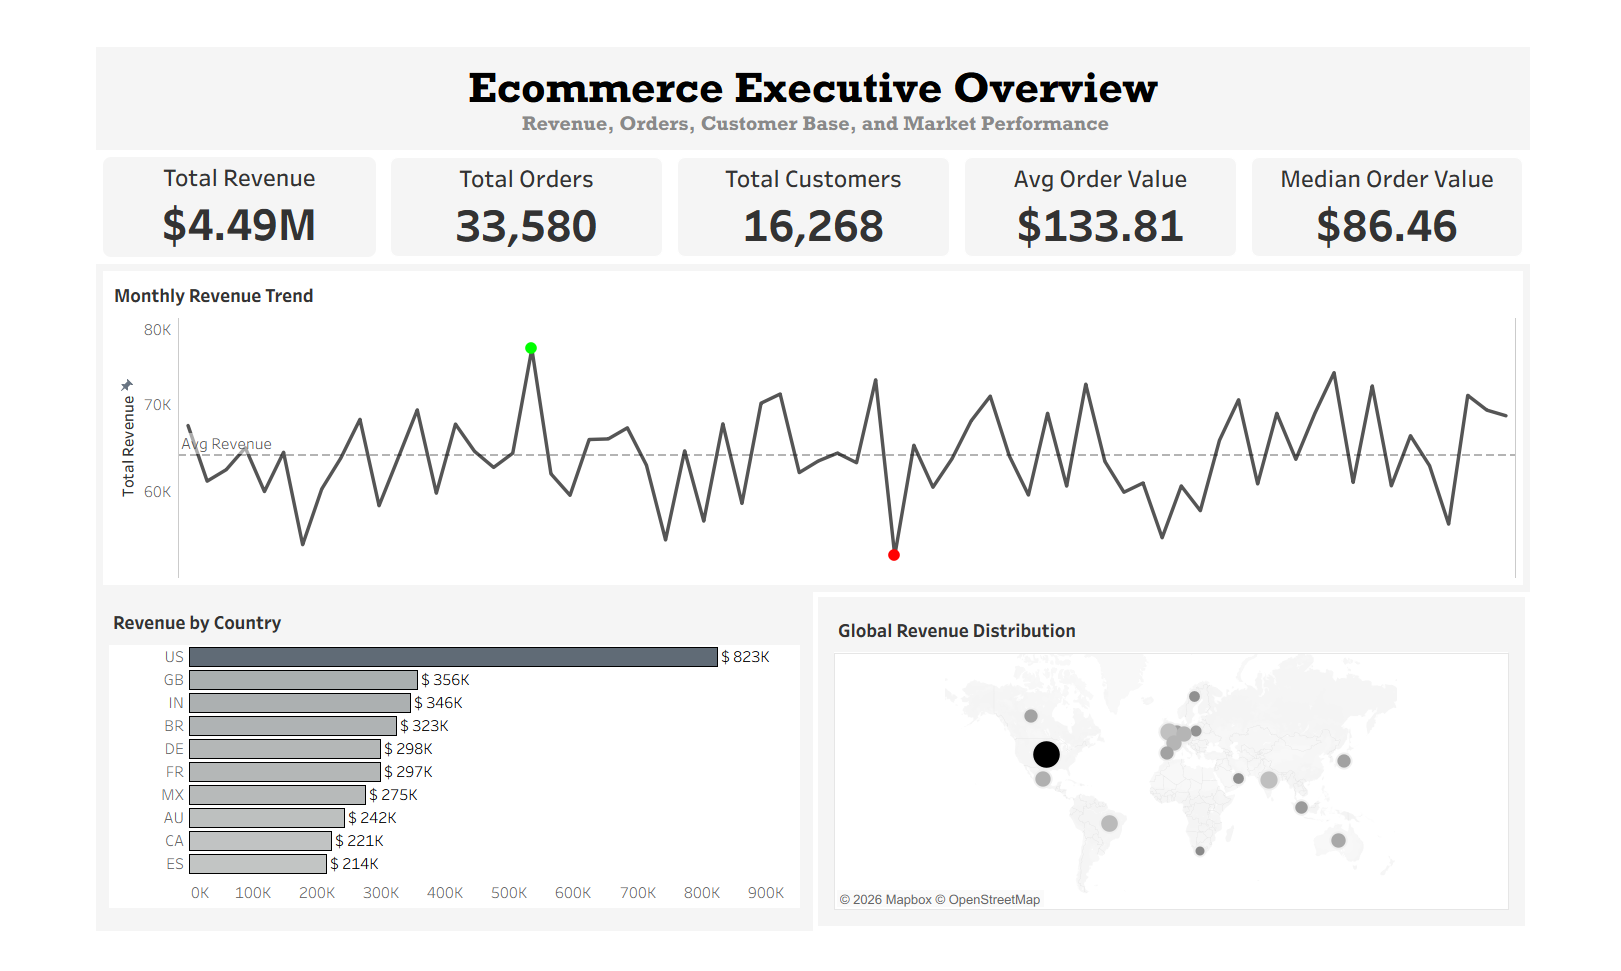

The page's visual inventory and layout, read from the dashboard file:
{"tool":"tableau","page":{"name":"Executive Overview","canvas":[1450,900],"ordinal":2},"visuals":[{"type":"text","box":[8,8,1434,103]},{"type":"worksheet","title":"Total Revenue Card","mark":"Automatic","box":[8,111,287,114]},{"type":"worksheet","title":"Total Orders","mark":"Automatic","box":[295,111,287,114]},{"type":"worksheet","title":"Total Customers Card","mark":"Automatic","box":[582,111,287,114]},{"type":"worksheet","title":"AOV Card","mark":"Automatic","box":[869,111,287,114]},{"type":"worksheet","title":"Median Order Value","mark":"Automatic","box":[1156,111,286,114]},{"type":"worksheet","title":"Monthly Revenue Trend","mark":"Line","rows":["total_revenue","Calculation_1224311743520773"],"cols":["sales_month"],"box":[8,225,1434,328]},{"type":"worksheet","title":"Revenue by Country","mark":"Bar","rows":["country_code"],"cols":["total_revenue"],"box":[8,553,717,331]},{"type":"worksheet","title":"Global Revenue Distribution","mark":"Circle","box":[733,561,701,323]}]}

Visuals, with their boxes on the page's 1450x900 design canvas (x1, y1, x2, y2). These are canvas units, not pixel positions in the 1621x971 screenshot, which may show the page scaled, cropped or inside an application window:
text: locate(8, 8, 1442, 111)
"Total Revenue Card" worksheet: locate(8, 111, 295, 225)
"Total Orders" worksheet: locate(295, 111, 582, 225)
"Total Customers Card" worksheet: locate(582, 111, 869, 225)
"AOV Card" worksheet: locate(869, 111, 1156, 225)
"Median Order Value" worksheet: locate(1156, 111, 1442, 225)
"Monthly Revenue Trend" worksheet (Line marks): locate(8, 225, 1442, 553)
"Revenue by Country" worksheet (Bar marks): locate(8, 553, 725, 884)
"Global Revenue Distribution" worksheet (Circle marks): locate(733, 561, 1434, 884)
